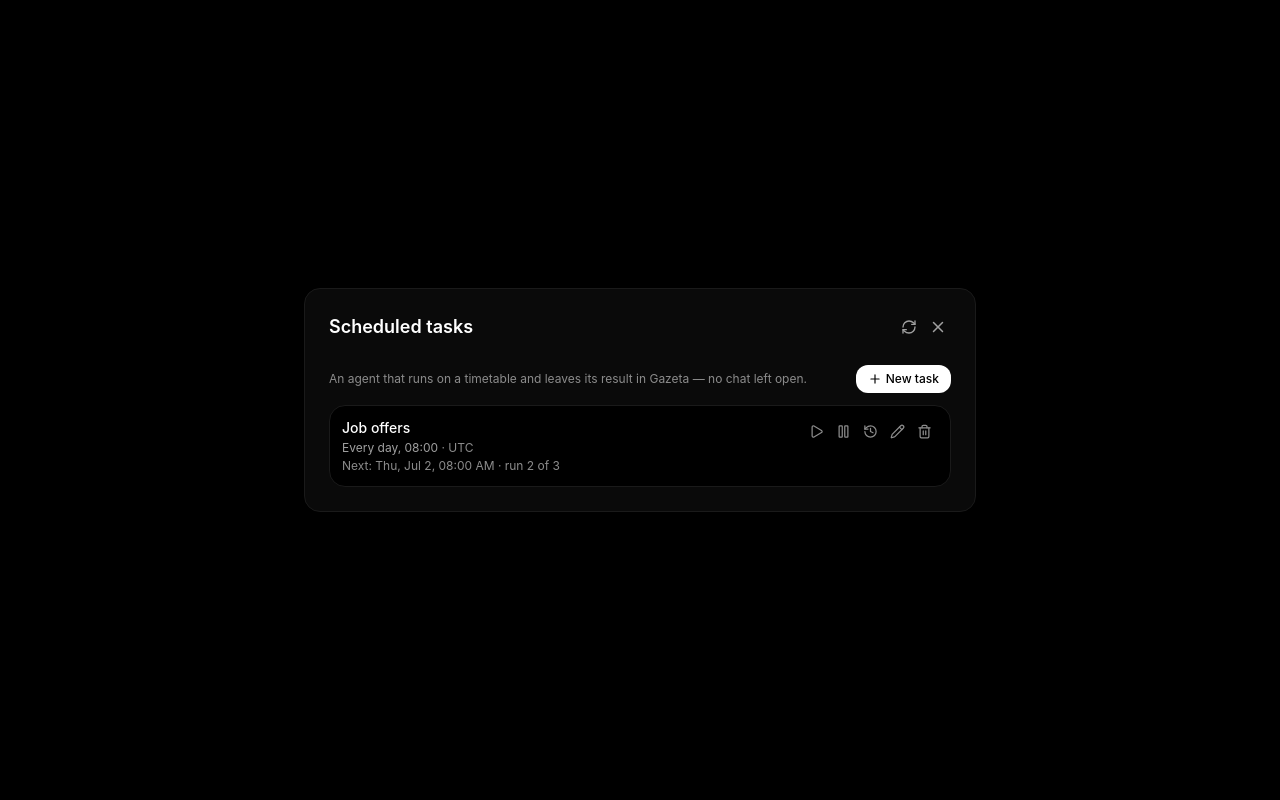
it: SchedulesView list: one-time and limited tasks › shows which run of a limited task is next, and when it is used up
Expected: the text "Next: Thu, Jul 2, 08:00 AM · run 2 of 3" is shown, [342,458,560,473]
Click the button named "Refresh" at (909, 327), box [897,315,921,339]
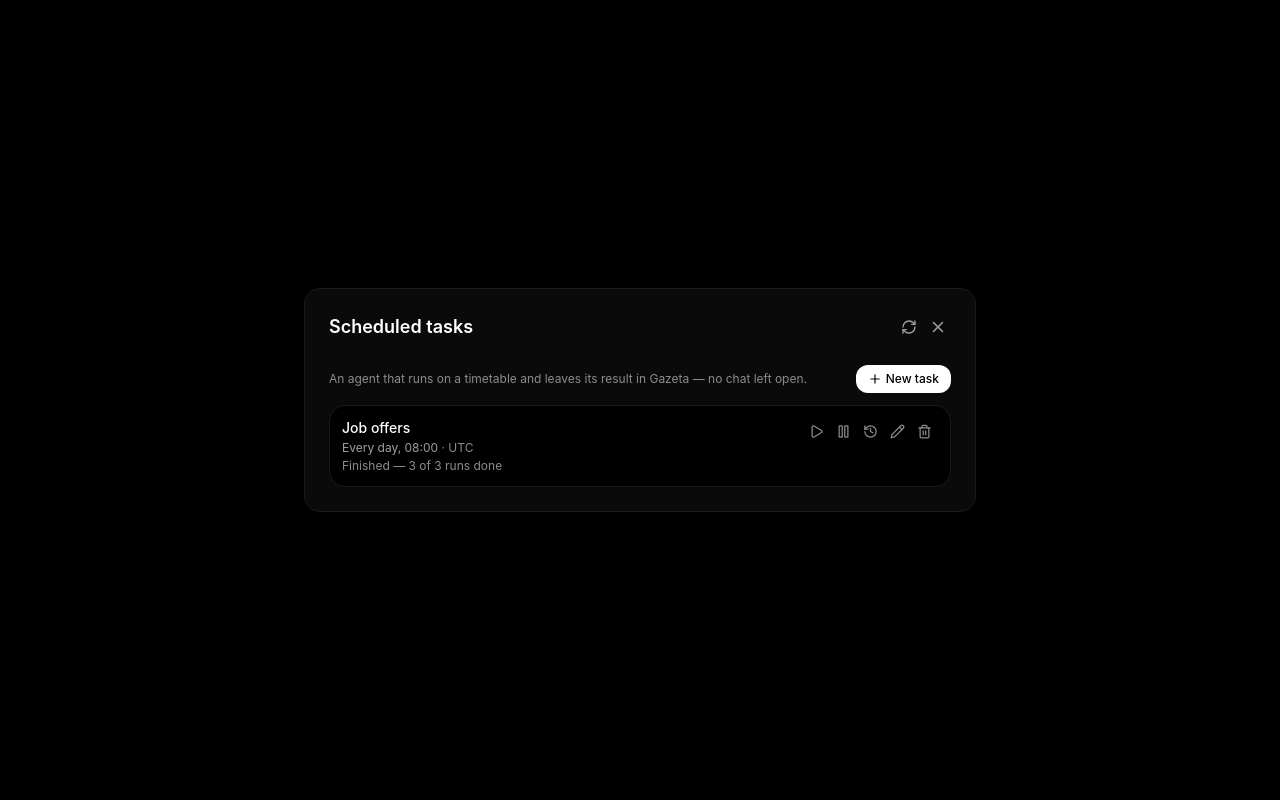
Result: the text "Finished — 3 of 3 runs done" is shown at [342,458,502,473]
